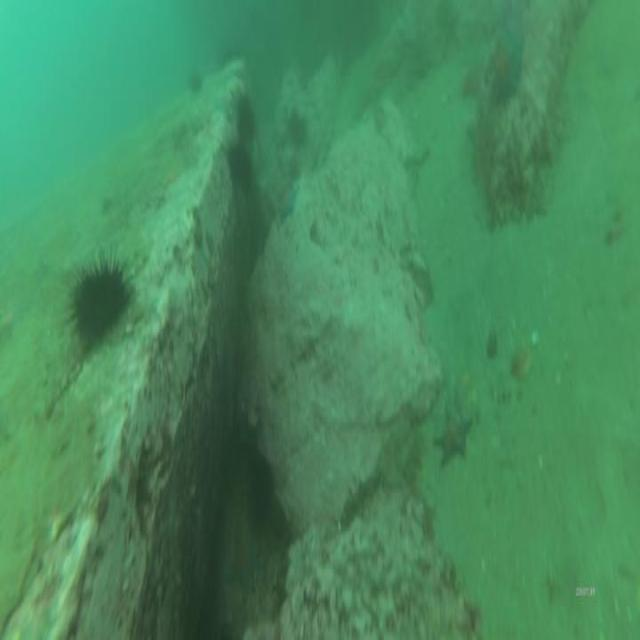echinus: (70, 262, 132, 348), (223, 139, 253, 190), (233, 94, 260, 146)
starfish: (432, 404, 475, 470), (489, 35, 523, 107), (278, 180, 300, 228)
